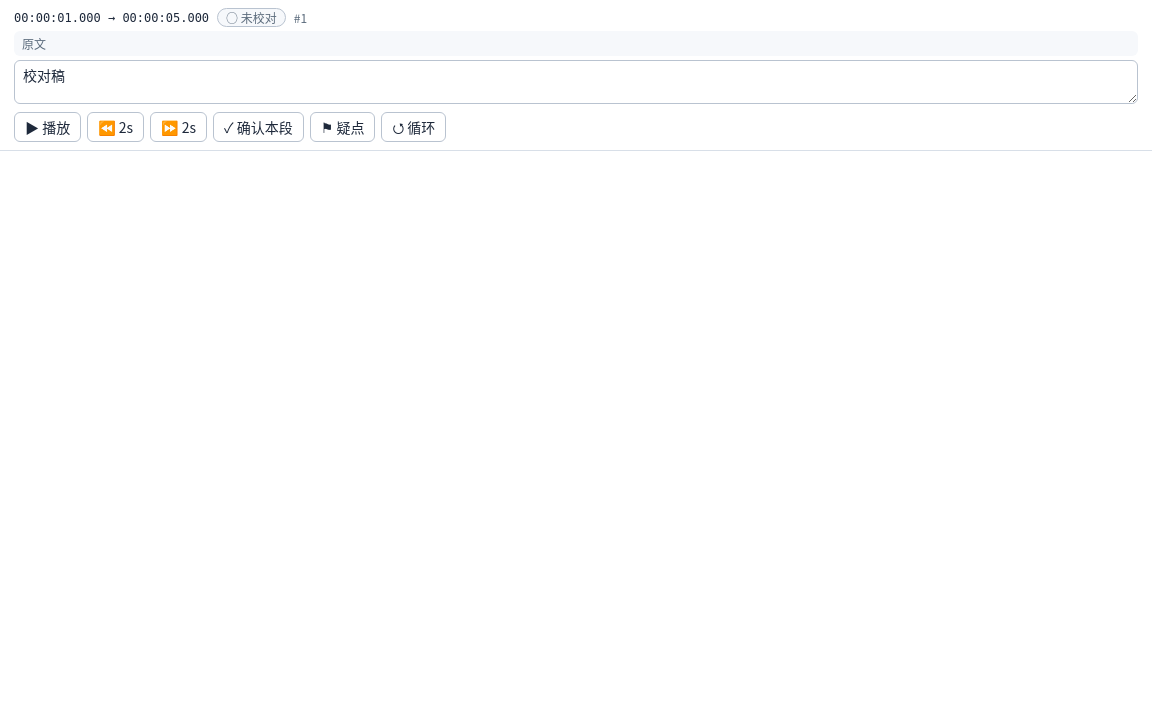
行内疑点类型选择层（PRD V1.0.4 AC-044） › 点击外部关闭且不创建
The width and height of the screenshot is (1152, 720).
Click the button "⚑ 疑点" at (343, 127), box left=310, top=112, right=375, bottom=142
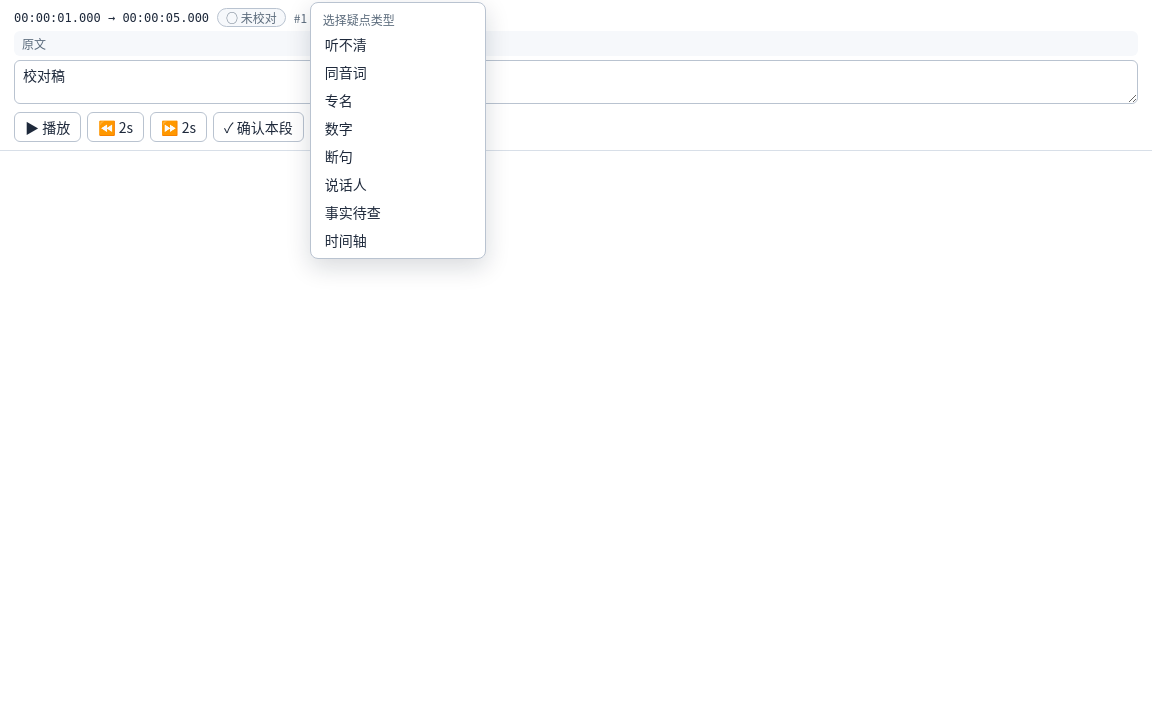
Press the mouse on the element that starts with "○ 未校对" at (576, 360), box left=0, top=0, right=1151, bottom=719
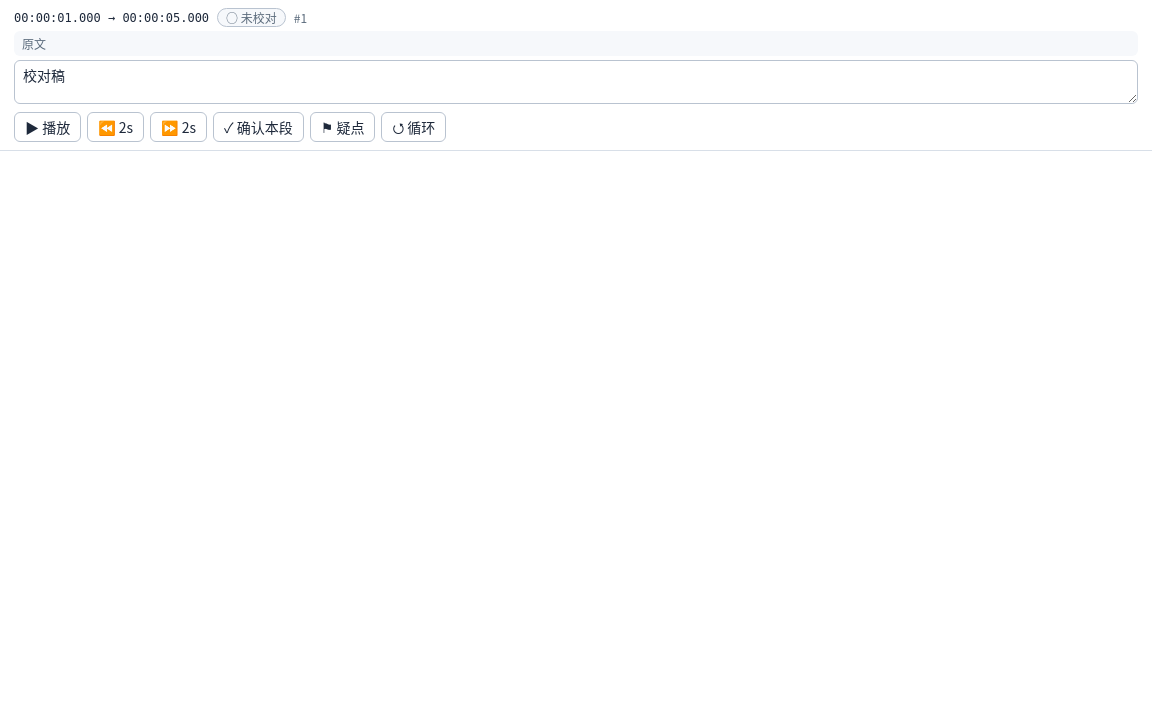
Check: the menu is gone
